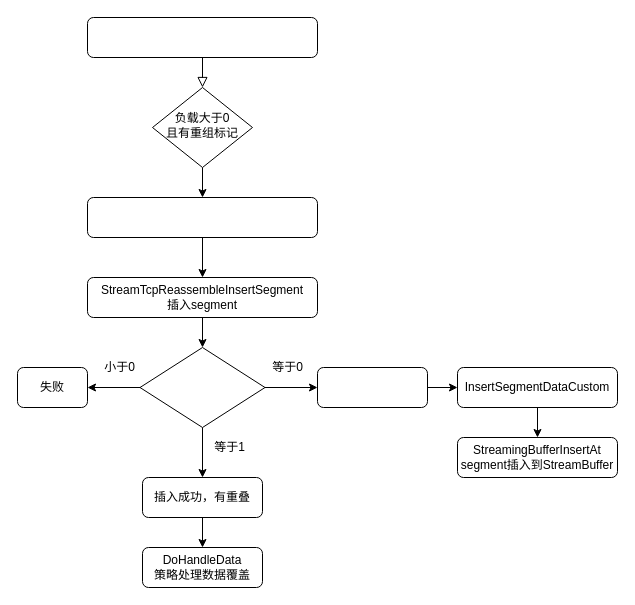
Some shapes in this 635 by 605 pixel diagram are drawn without their labels. Each missing label, with the centre of its shape:
DoInsertSegment 插入函数: pixel 202 387
StreamTcpReassembleHandleSegment HandleData处理segment 数据: pixel 202 217
StreamTcpReassembleHandleSegment 处理segment段: pixel 202 37
插入成功且无重叠: pixel 372 387
